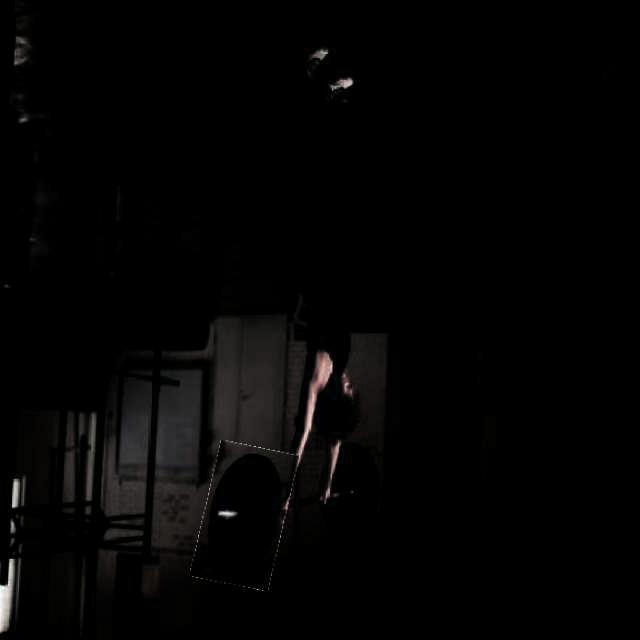barbell: (200, 444, 296, 590)
